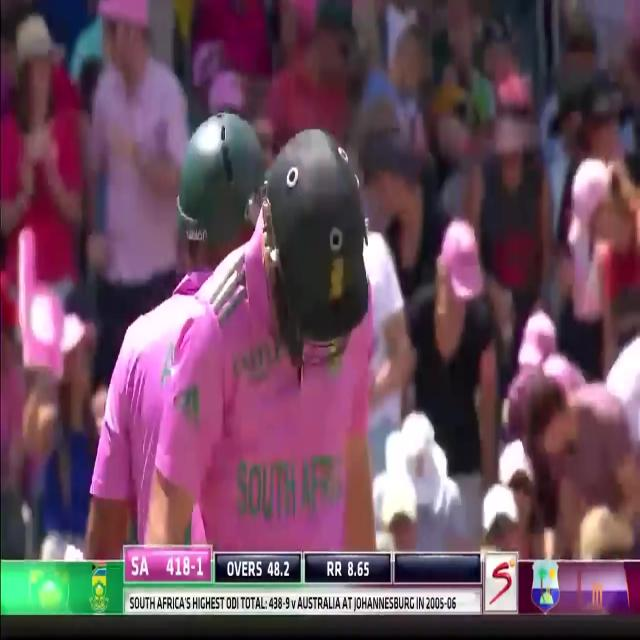Ball: (92, 112, 424, 556)
